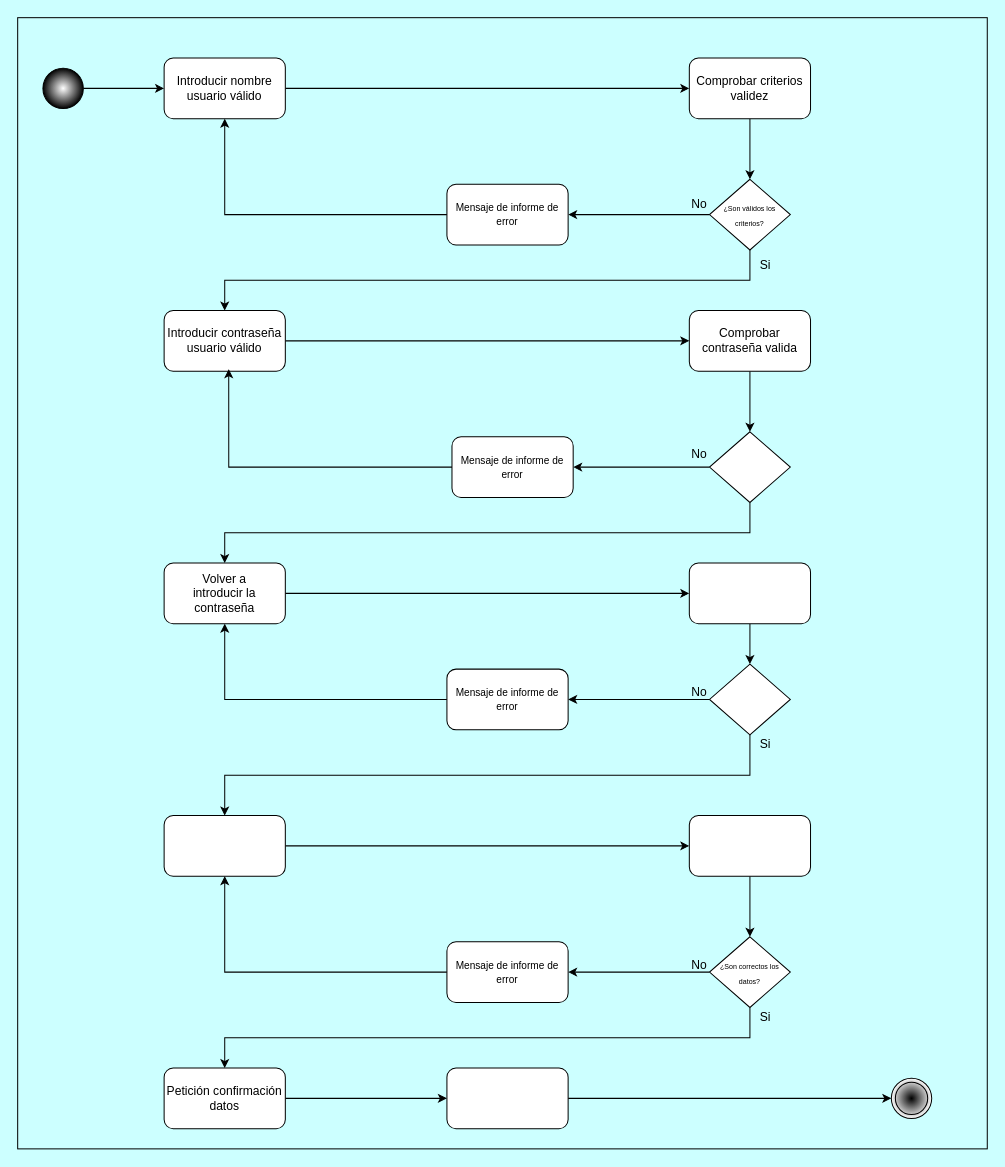
The diagram is 1005 pixels wide and 1167 high, and some of its shapes have lost their labels. Here are the shapes that lost their labels. From the top down, the centre of each, then its label:
pixel 749 466: ¿Es válida la contraseña?
pixel 749 593: Segunda comprobación de contraseña
pixel 749 699: ¿Coincide con la anterior contraseña?
pixel 224 845: Introducir resto de datos
pixel 749 845: Comprobación validez datos
pixel 507 1098: Mensaje registro correcto
